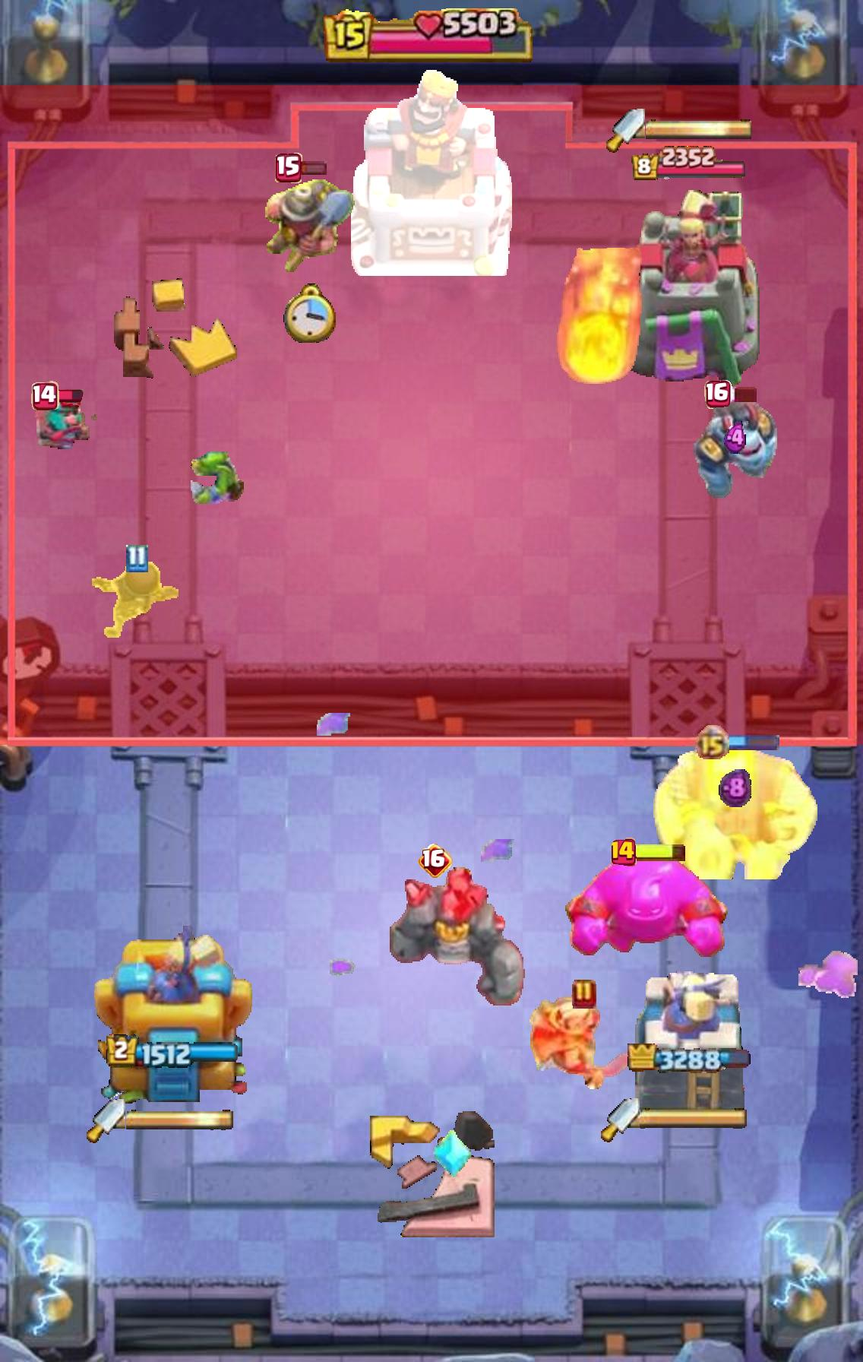elixir: (719, 768, 752, 809), (723, 421, 748, 455)
